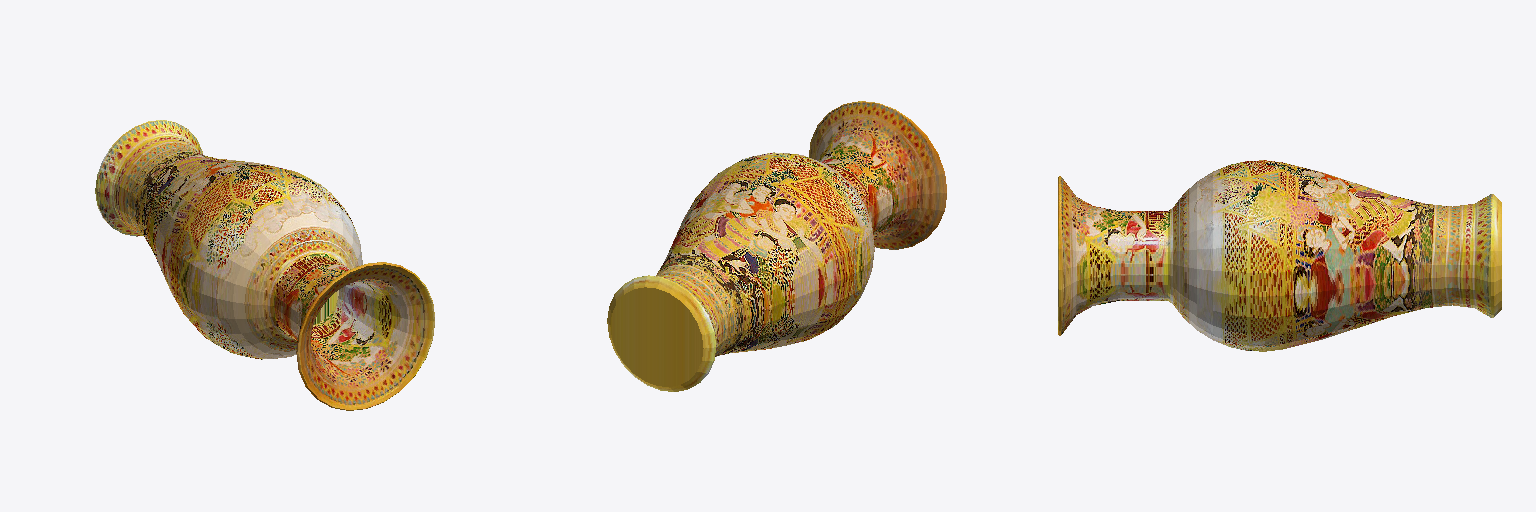
3 views of the same model, side by side, from view 1: azimuth 30°, elevation 25°; view 2: azimuth 150°, elevation 25°; view 3: azimuth 270°, elevation 25° (orthographic).
Parts seen in each view (by area): view 1: Mesh1 Model; view 2: Mesh1 Model; view 3: Mesh1 Model.
Part boxes in pixels (x1,y1,x2,y2): Mesh1 Model: (95,120,434,410); Mesh1 Model: (607,101,946,391); Mesh1 Model: (1058,160,1501,351).
Bounding box in the file's own units: 0.4934 × 0.4934 × 1.14.
1 materials, 1 textured.